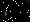person: (4, 8, 10, 19)
